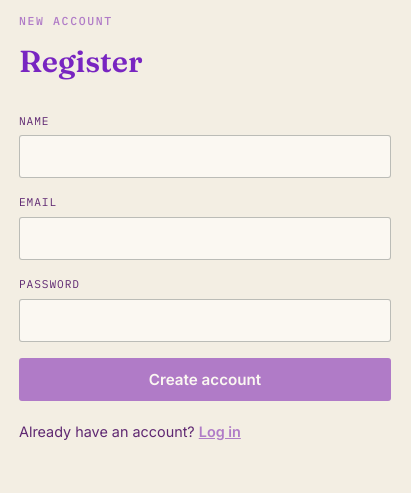
Register page › shows the backend's error message when registration fails (e.g. duplicate email)
Type "New Guest" into the field labelled "Name". click: [205, 157]
box: [19,135,391,178]
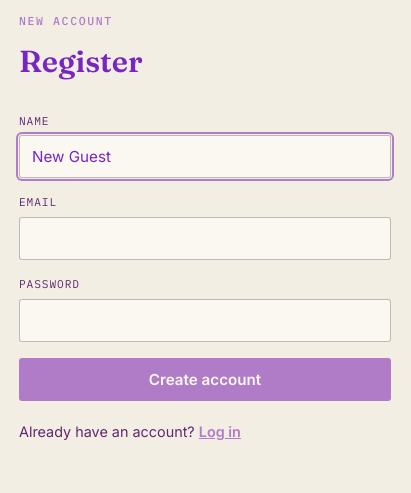
Type "dup@stayease.com" into the field labelled "Email". click: [205, 239]
box: [19,217,391,260]
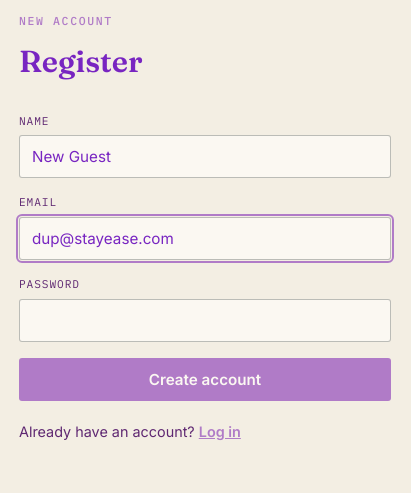
Type "password123" into the password field labelled "Password". click: [205, 320]
box: [19,299,391,342]
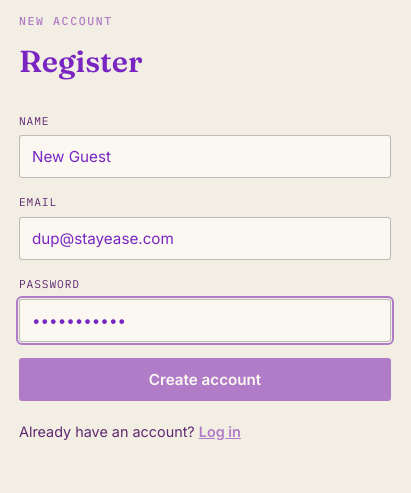
Click the button "Create account". click: [205, 380]
box: [19,358,391,401]
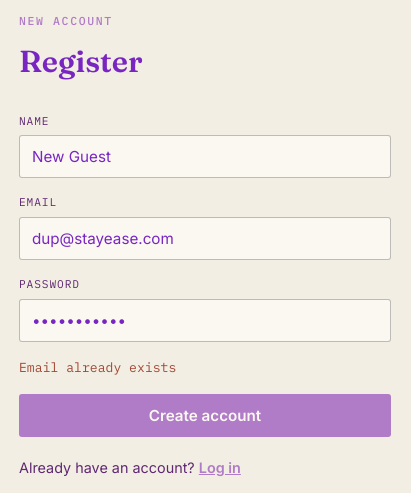
Expected: the text "Email already exists" is shown, [19,359,176,376]
